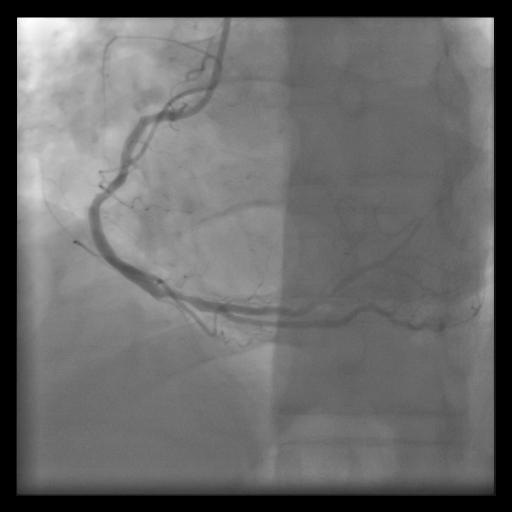Stenosis: (164, 277, 206, 312)
